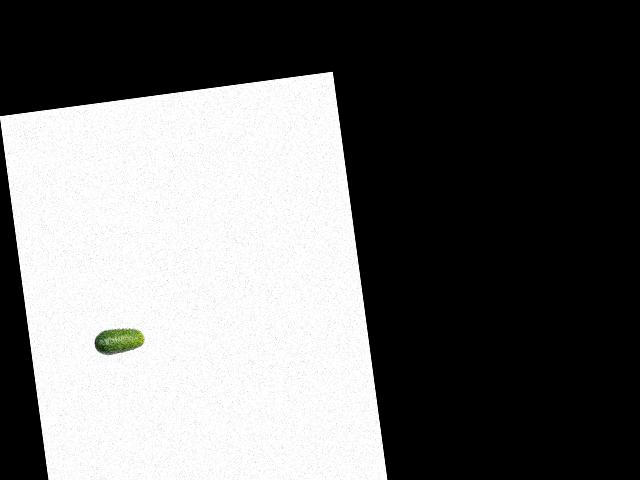cucumber: (92, 324, 146, 356)
